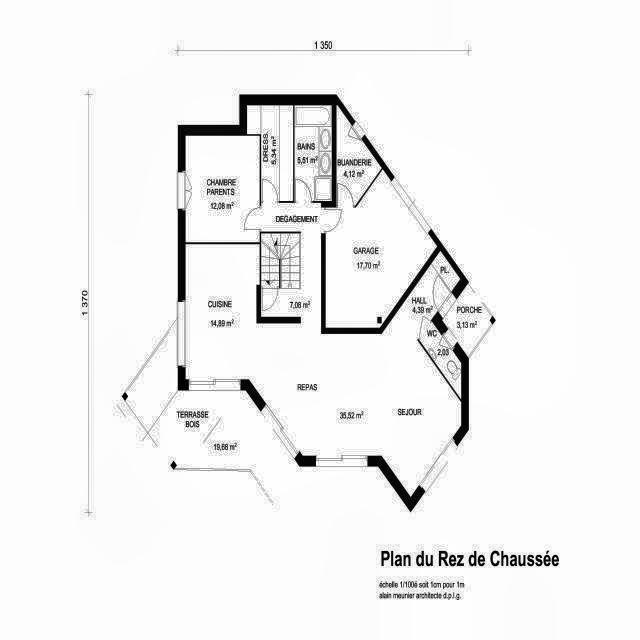room: (129, 162, 518, 506), (325, 169, 437, 328), (186, 136, 260, 242), (434, 284, 503, 357), (415, 322, 478, 399), (336, 105, 382, 206), (247, 105, 293, 201), (294, 105, 332, 201)
